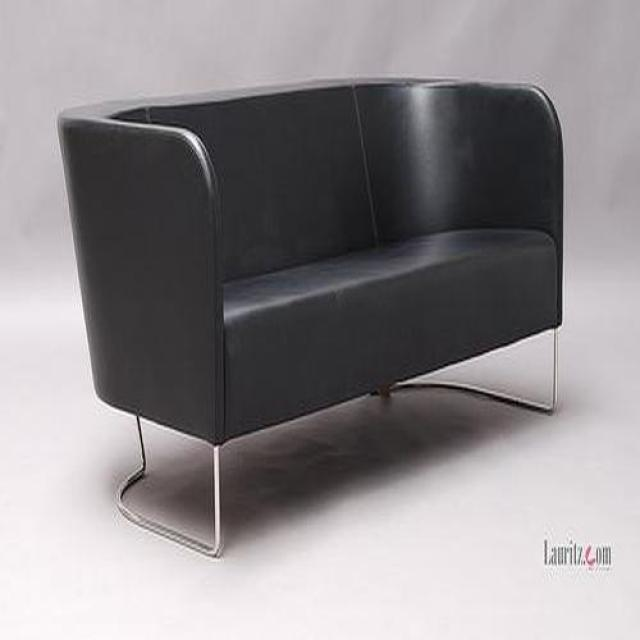sofa: (55, 78, 566, 562)
